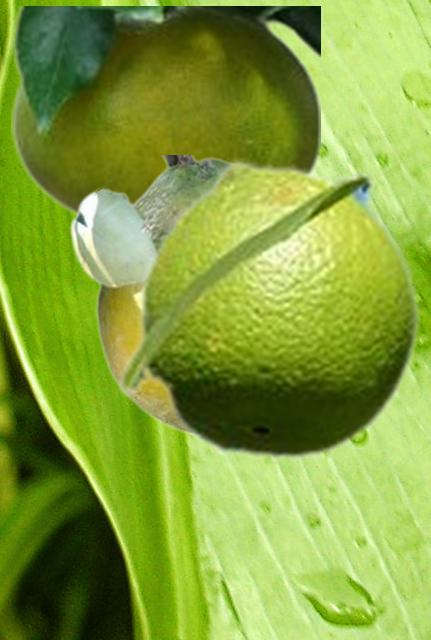dalandan: (114, 158, 422, 462), (11, 6, 319, 218), (68, 155, 229, 435)
